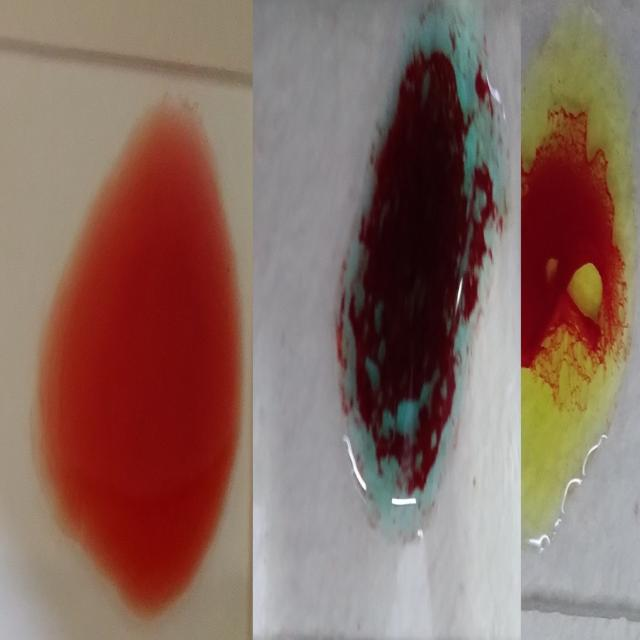A: (335, 10, 502, 542)
B: (521, 7, 634, 560)
